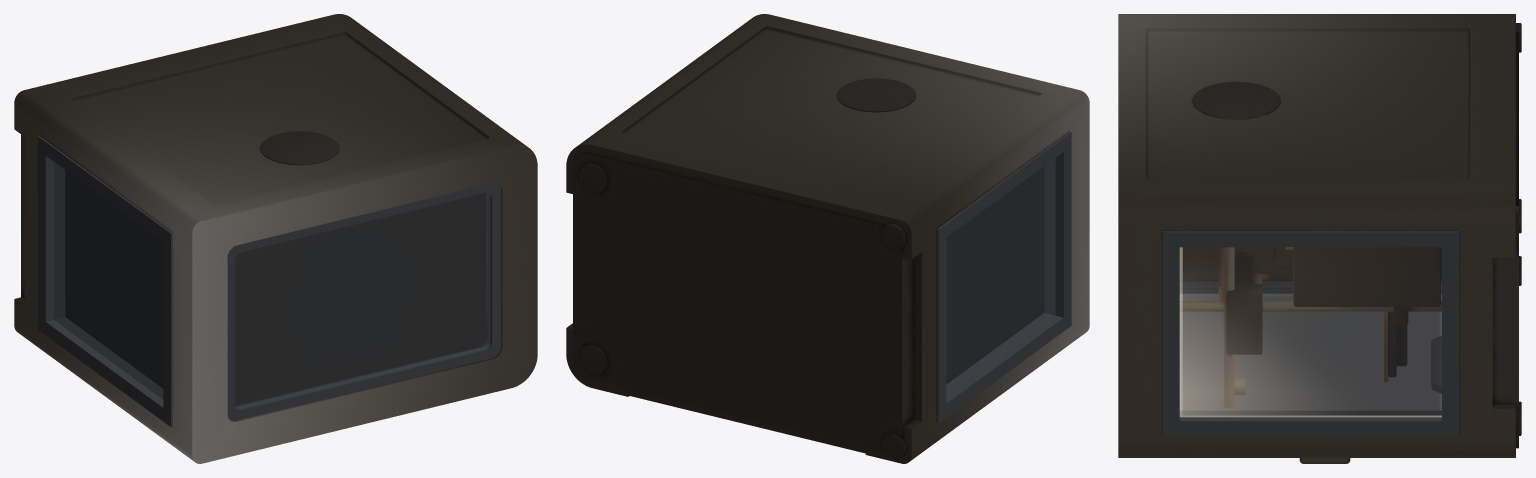
Rendered from deltrol_p2s_explorer_v8.glb.
3 renders of one model, left to right at view 1: azimuth 30°, elevation 25°; view 2: azimuth 150°, elevation 25°; view 3: azimuth 270°, elevation 25°, orthographic. The views are drawn at different scales.
Visible parts, largest first — view 1: unibody_shell, top_roof_glass, interior_ceiling_liner, left_glass_window, interior_left_back_baffle, left_window_gasket, top_rim_outer, rear_exhaust_shroud, chassis_recessed_plinth; view 2: unibody_shell, chassis_recessed_plinth, left_glass_window, interior_left_back_baffle, left_window_gasket, rear_exhaust_shroud, chassis_foot_2, chassis_foot_1, chassis_foot_3; view 3: unibody_shell, right_glass_sheen, right_glass_window, right_window_gasket, front_glass_door, interior_rear_electronics_box, chassis_recessed_plinth, x_guide_front, x_gantry_crossbeam, rear_exhaust_shroud, bed_heater_block, interior_left_back_baffle (+3 smaller).
Boxes of the visible parts, box(x1,y1,x2,y2) form: unibody_shell: box(14, 14, 537, 463); top_roof_glass: box(235, 192, 490, 408); interior_ceiling_liner: box(235, 193, 485, 405); left_glass_window: box(54, 162, 163, 399); interior_left_back_baffle: box(65, 170, 163, 387); left_window_gasket: box(38, 136, 172, 426); top_rim_outer: box(227, 182, 500, 420); rear_exhaust_shroud: box(260, 131, 339, 165); chassis_recessed_plinth: box(21, 134, 24, 298); unibody_shell: box(566, 14, 1089, 463); chassis_recessed_plinth: box(573, 152, 913, 451); left_glass_window: box(946, 158, 1055, 395); interior_left_back_baffle: box(946, 166, 1044, 384); left_window_gasket: box(937, 132, 1071, 422); rear_exhaust_shroud: box(836, 78, 915, 112); chassis_foot_2: box(580, 163, 607, 192); chassis_foot_1: box(580, 345, 607, 374); chassis_foot_3: box(881, 223, 906, 249); unibody_shell: box(1118, 14, 1515, 457); right_glass_sheen: box(1179, 247, 1441, 417); right_glass_window: box(1180, 247, 1441, 416); right_window_gasket: box(1162, 231, 1458, 436); front_glass_door: box(1183, 289, 1441, 409); interior_rear_electronics_box: box(1293, 247, 1440, 306); chassis_recessed_plinth: box(1492, 32, 1518, 448); x_guide_front: box(1180, 247, 1441, 408); x_gantry_crossbeam: box(1227, 247, 1273, 354); rear_exhaust_shroud: box(1192, 81, 1280, 119); bed_heater_block: box(1388, 307, 1407, 376); interior_left_back_baffle: box(1180, 247, 1441, 266).
Size of the model in its own units: 0.426 by 0.2969 by 0.3825.
Materials: 10 (4 with a texture image).
